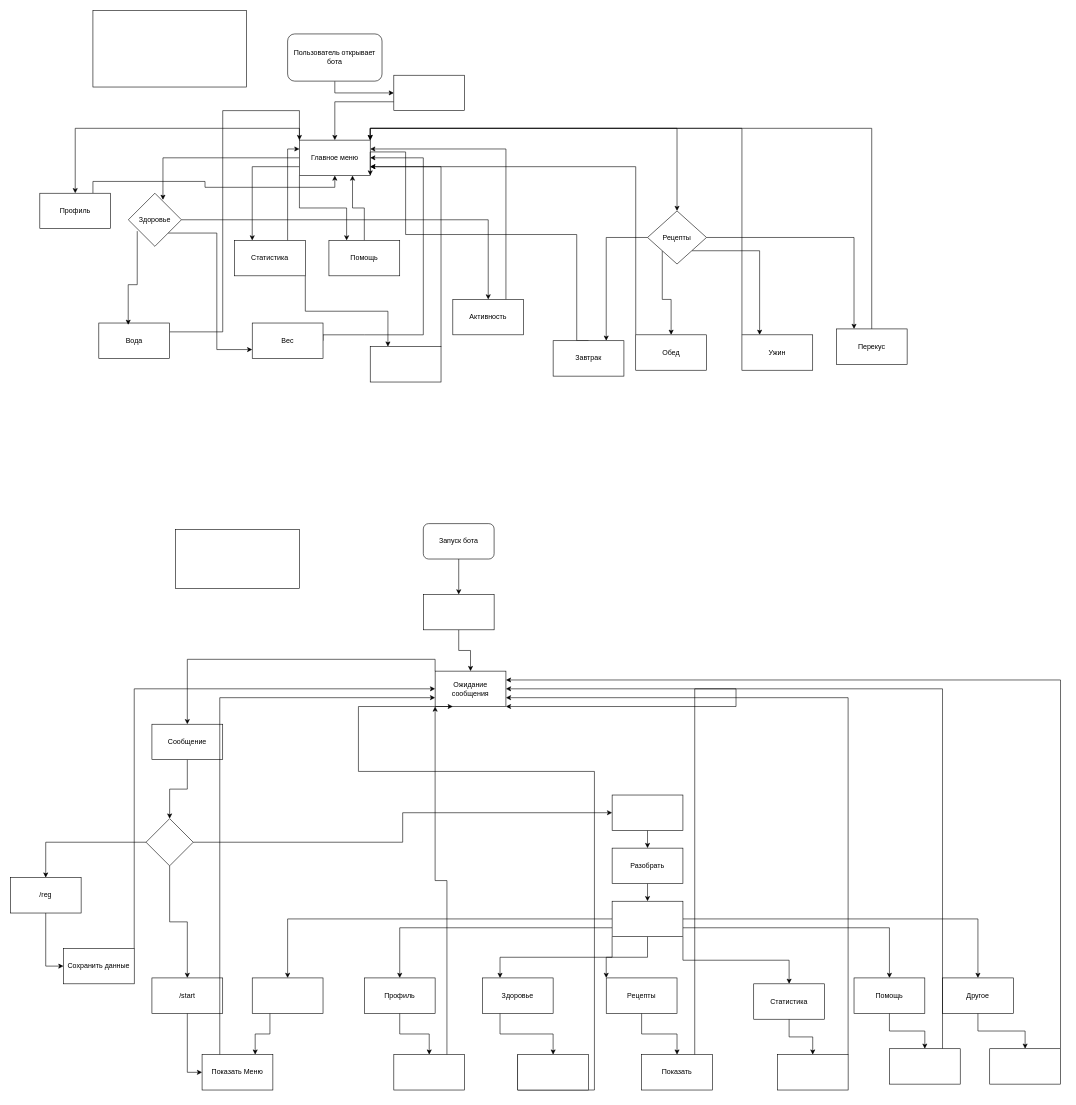
The diagram is 1076 pixels wide and 1105 high, and some of its shapes have lost their labels. The shapes that lost their labels are listed below. From the top down, each one's centre as x and y in pixels, then its label:
At point (169, 48): "Как видит Пользователь".
At point (429, 93): "Регистрация".
At point (405, 364): "Сон".
At point (237, 559): "Программа".
At point (458, 612): "Регистрация, загрузка данных".
At point (647, 812): "Текст".
At point (169, 842): "Тип".
At point (647, 919): "Команда".
At point (287, 995): "Назад".
At point (429, 1072): "Прочитать файл".
At point (553, 1072): "Записать файл".
At point (812, 1072): "Прочитать оба".
At point (924, 1066): "Справка".
At point (1025, 1066): "Ошибка".
